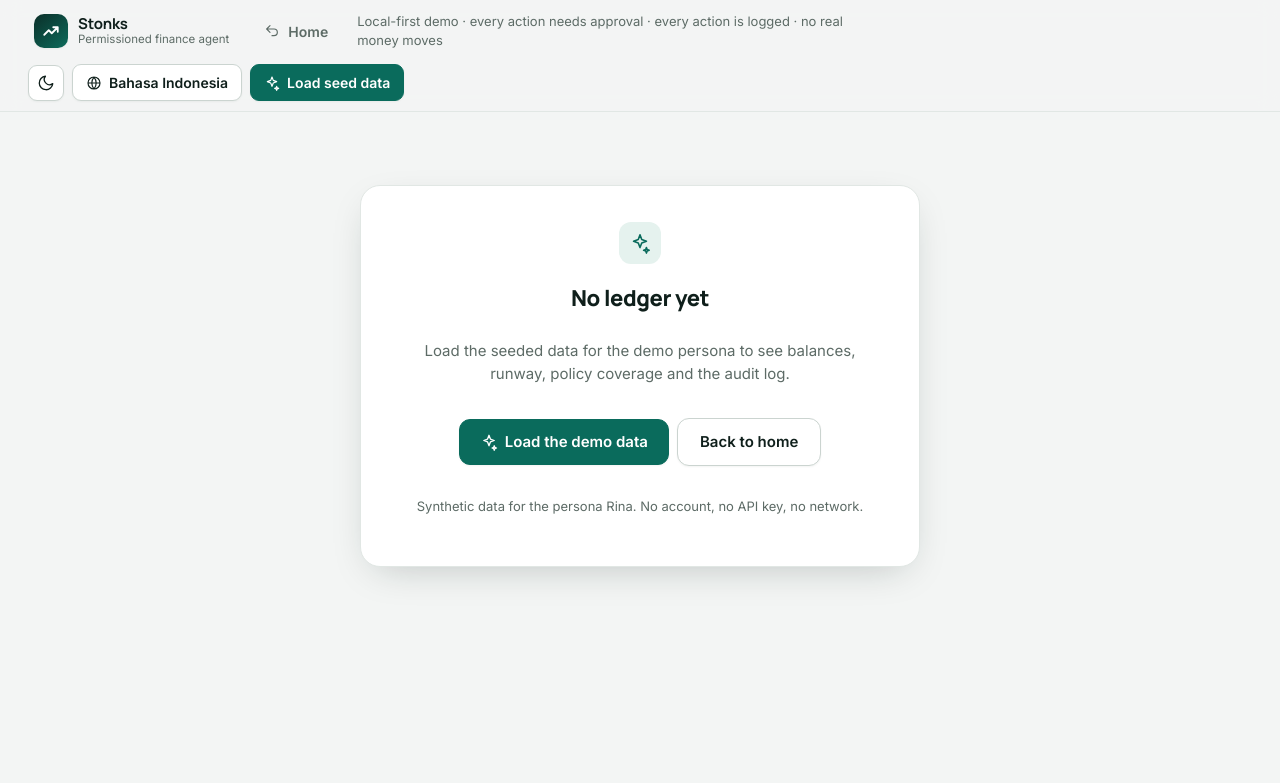
UI shell › starts empty and loads the seeded ledger
The width and height of the screenshot is (1280, 783).
Check: the element with test id "empty-state" is shown, box 360,185 -> 920,567
Click the button with test id "load-seed": (327, 82) 250,64 -> 404,101
(page scrolled)
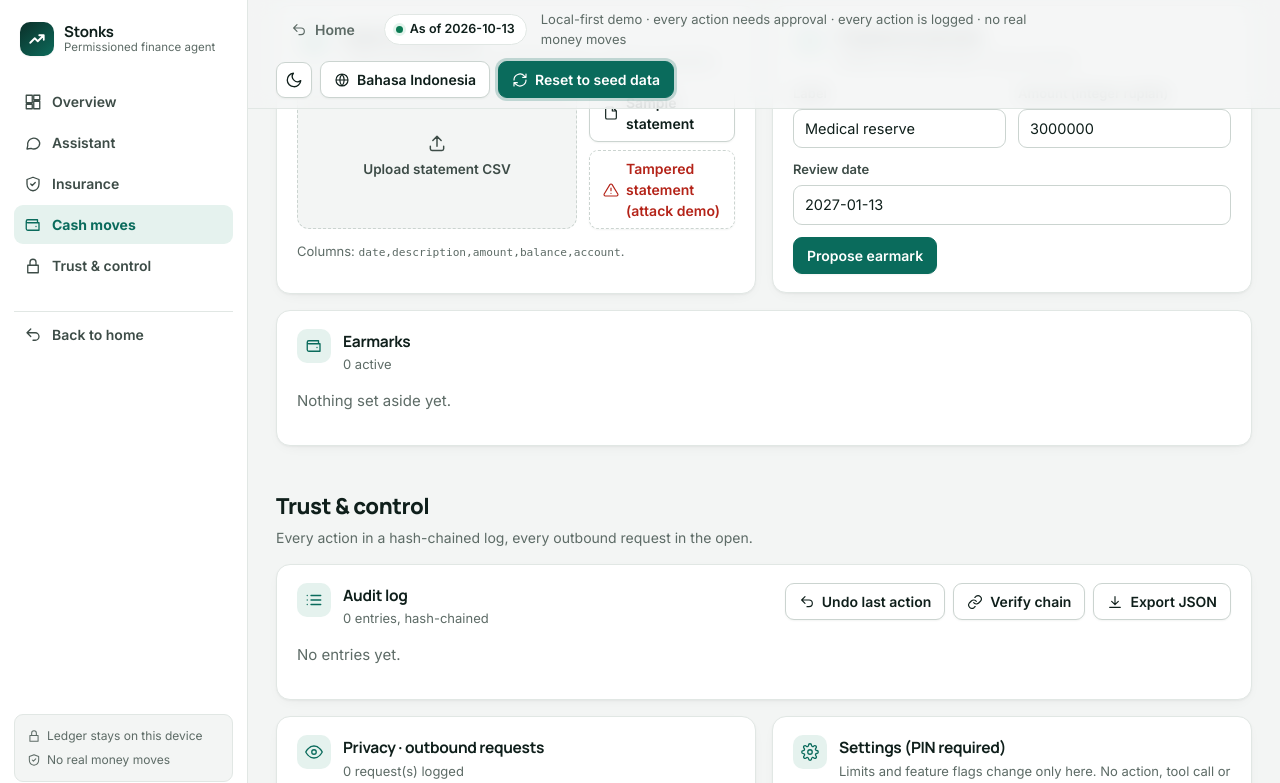
Check: the text "Nothing set aside yet." is shown, box 297,390 -> 451,410
